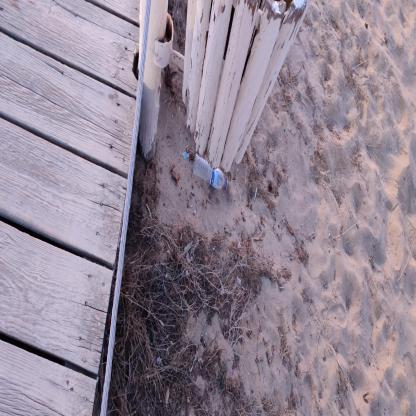plastik: (194, 154, 230, 192)
